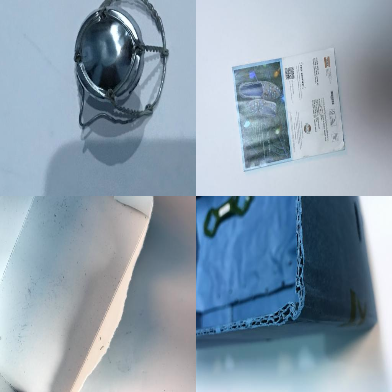cardboard: (196, 196, 378, 346)
metal: (74, 1, 170, 128)
paper: (1, 194, 153, 392), (231, 48, 346, 172)
